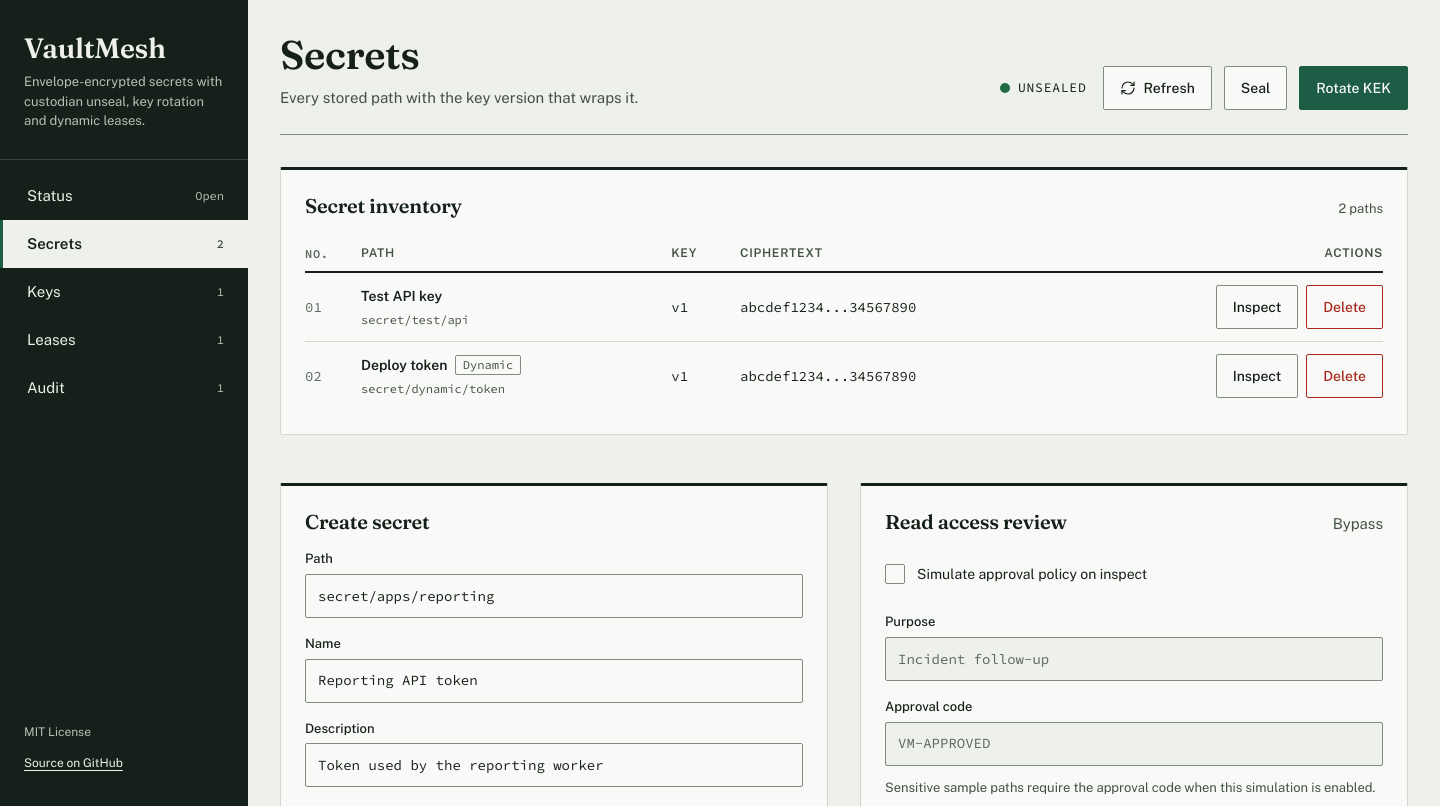
Test: App › reports the re-wrap count from the API
The image size is (1440, 806).
Expected: the text "Test API key" is shown, [361,288,442,304]
Click the button "Keys 1" at (124,292), box [0,268,248,316]
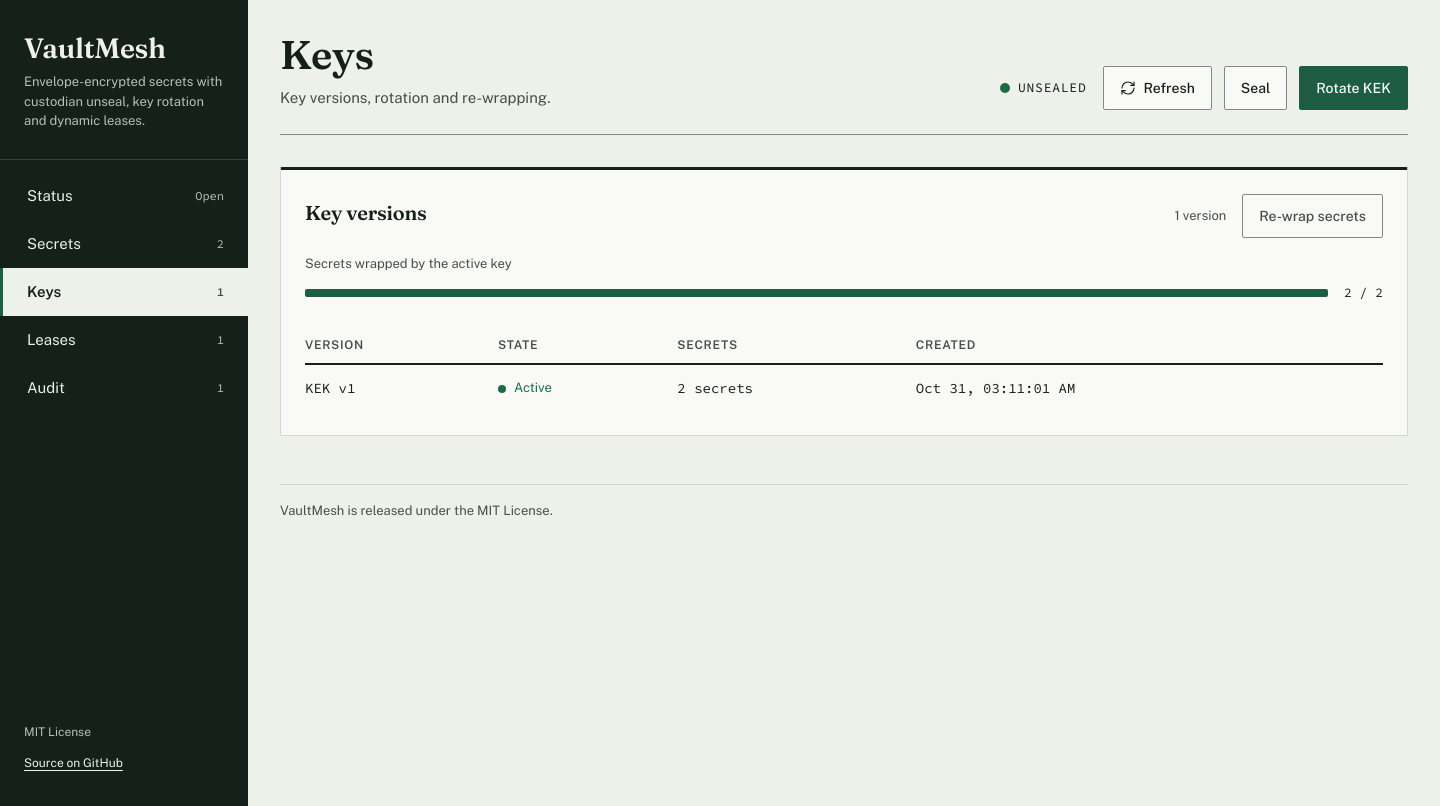
Click the button "Re-wrap secrets" at (1313,216), box [1242,194,1383,238]
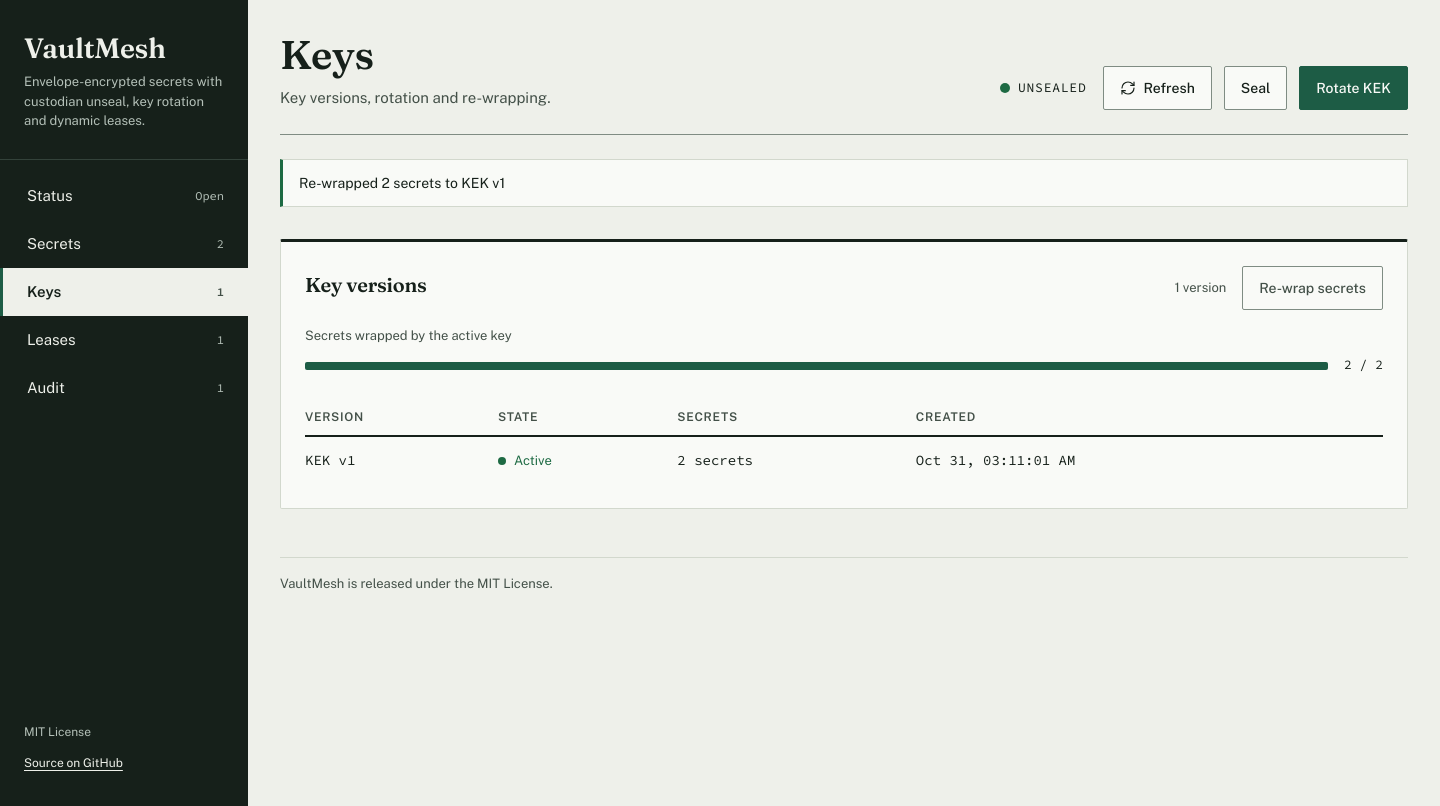
Expected: the text "Re-wrapped 2 secrets to KEK v1" is shown, [280,159,1408,207]
